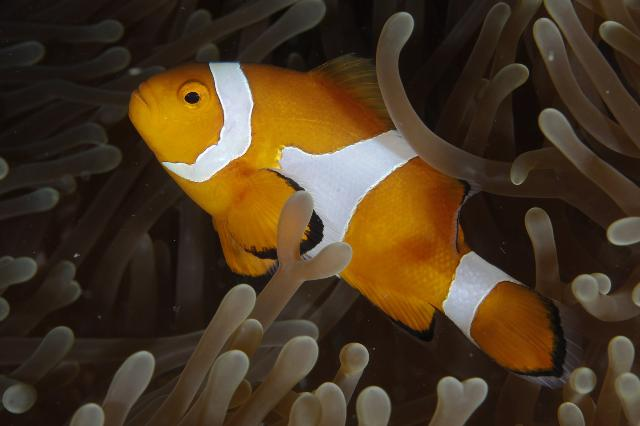Mulut: (118, 62, 182, 142)
Sirip Anal: (342, 263, 443, 351)
Sirip Dada: (208, 164, 330, 290)
Sirip Ekor: (460, 268, 598, 398)
Sirip Punggung: (316, 44, 480, 254)
